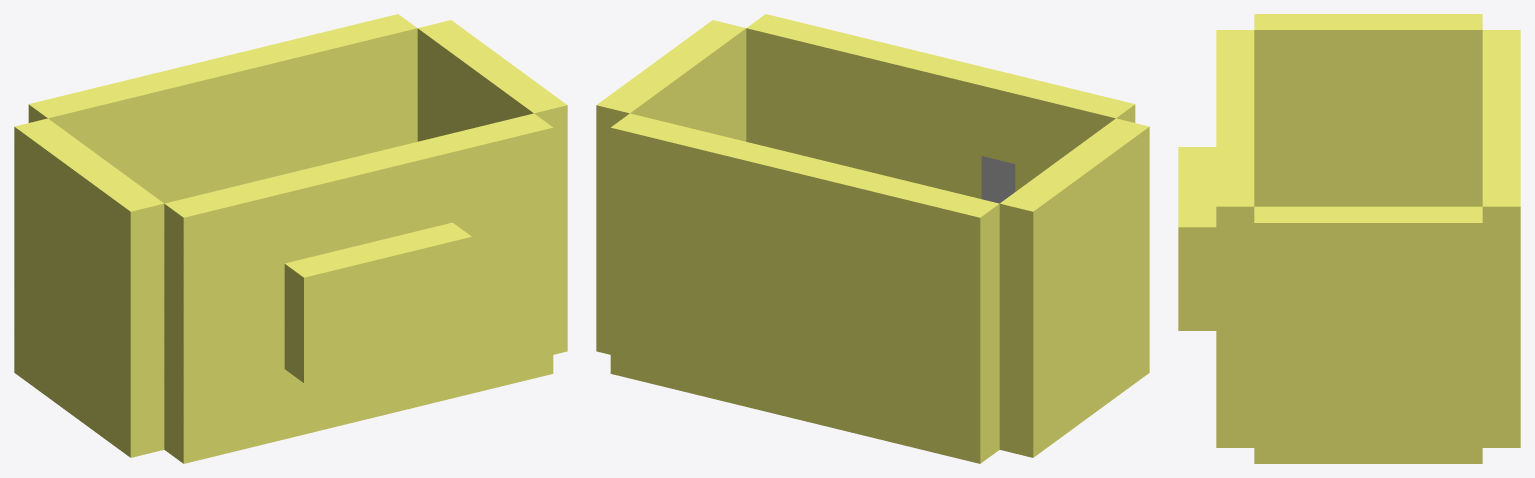
Rendered from accessories_clothes_tshirt.glb.
3 views of the same model, side by side, from view 1: azimuth 30°, elevation 25°; view 2: azimuth 150°, elevation 25°; view 3: azimuth 270°, elevation 25° (orthographic). The views are drawn at different scales.
Visible parts, largest first — view 1: model_0.001; view 2: model_0.001; view 3: model_0.001.
Boxes of the visible parts, box(x1,y1,x2,y2) form: model_0.001: box(14, 14, 567, 463); model_0.001: box(596, 14, 1149, 463); model_0.001: box(1178, 14, 1520, 463).
Bounding box in the file's own units: 13 × 7 × 9.
